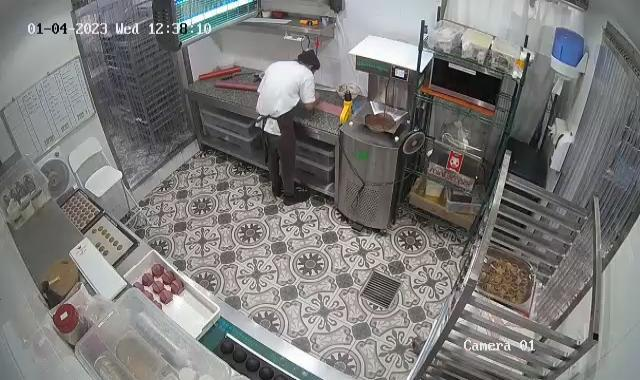no_hairnet: (296, 44, 321, 72)
